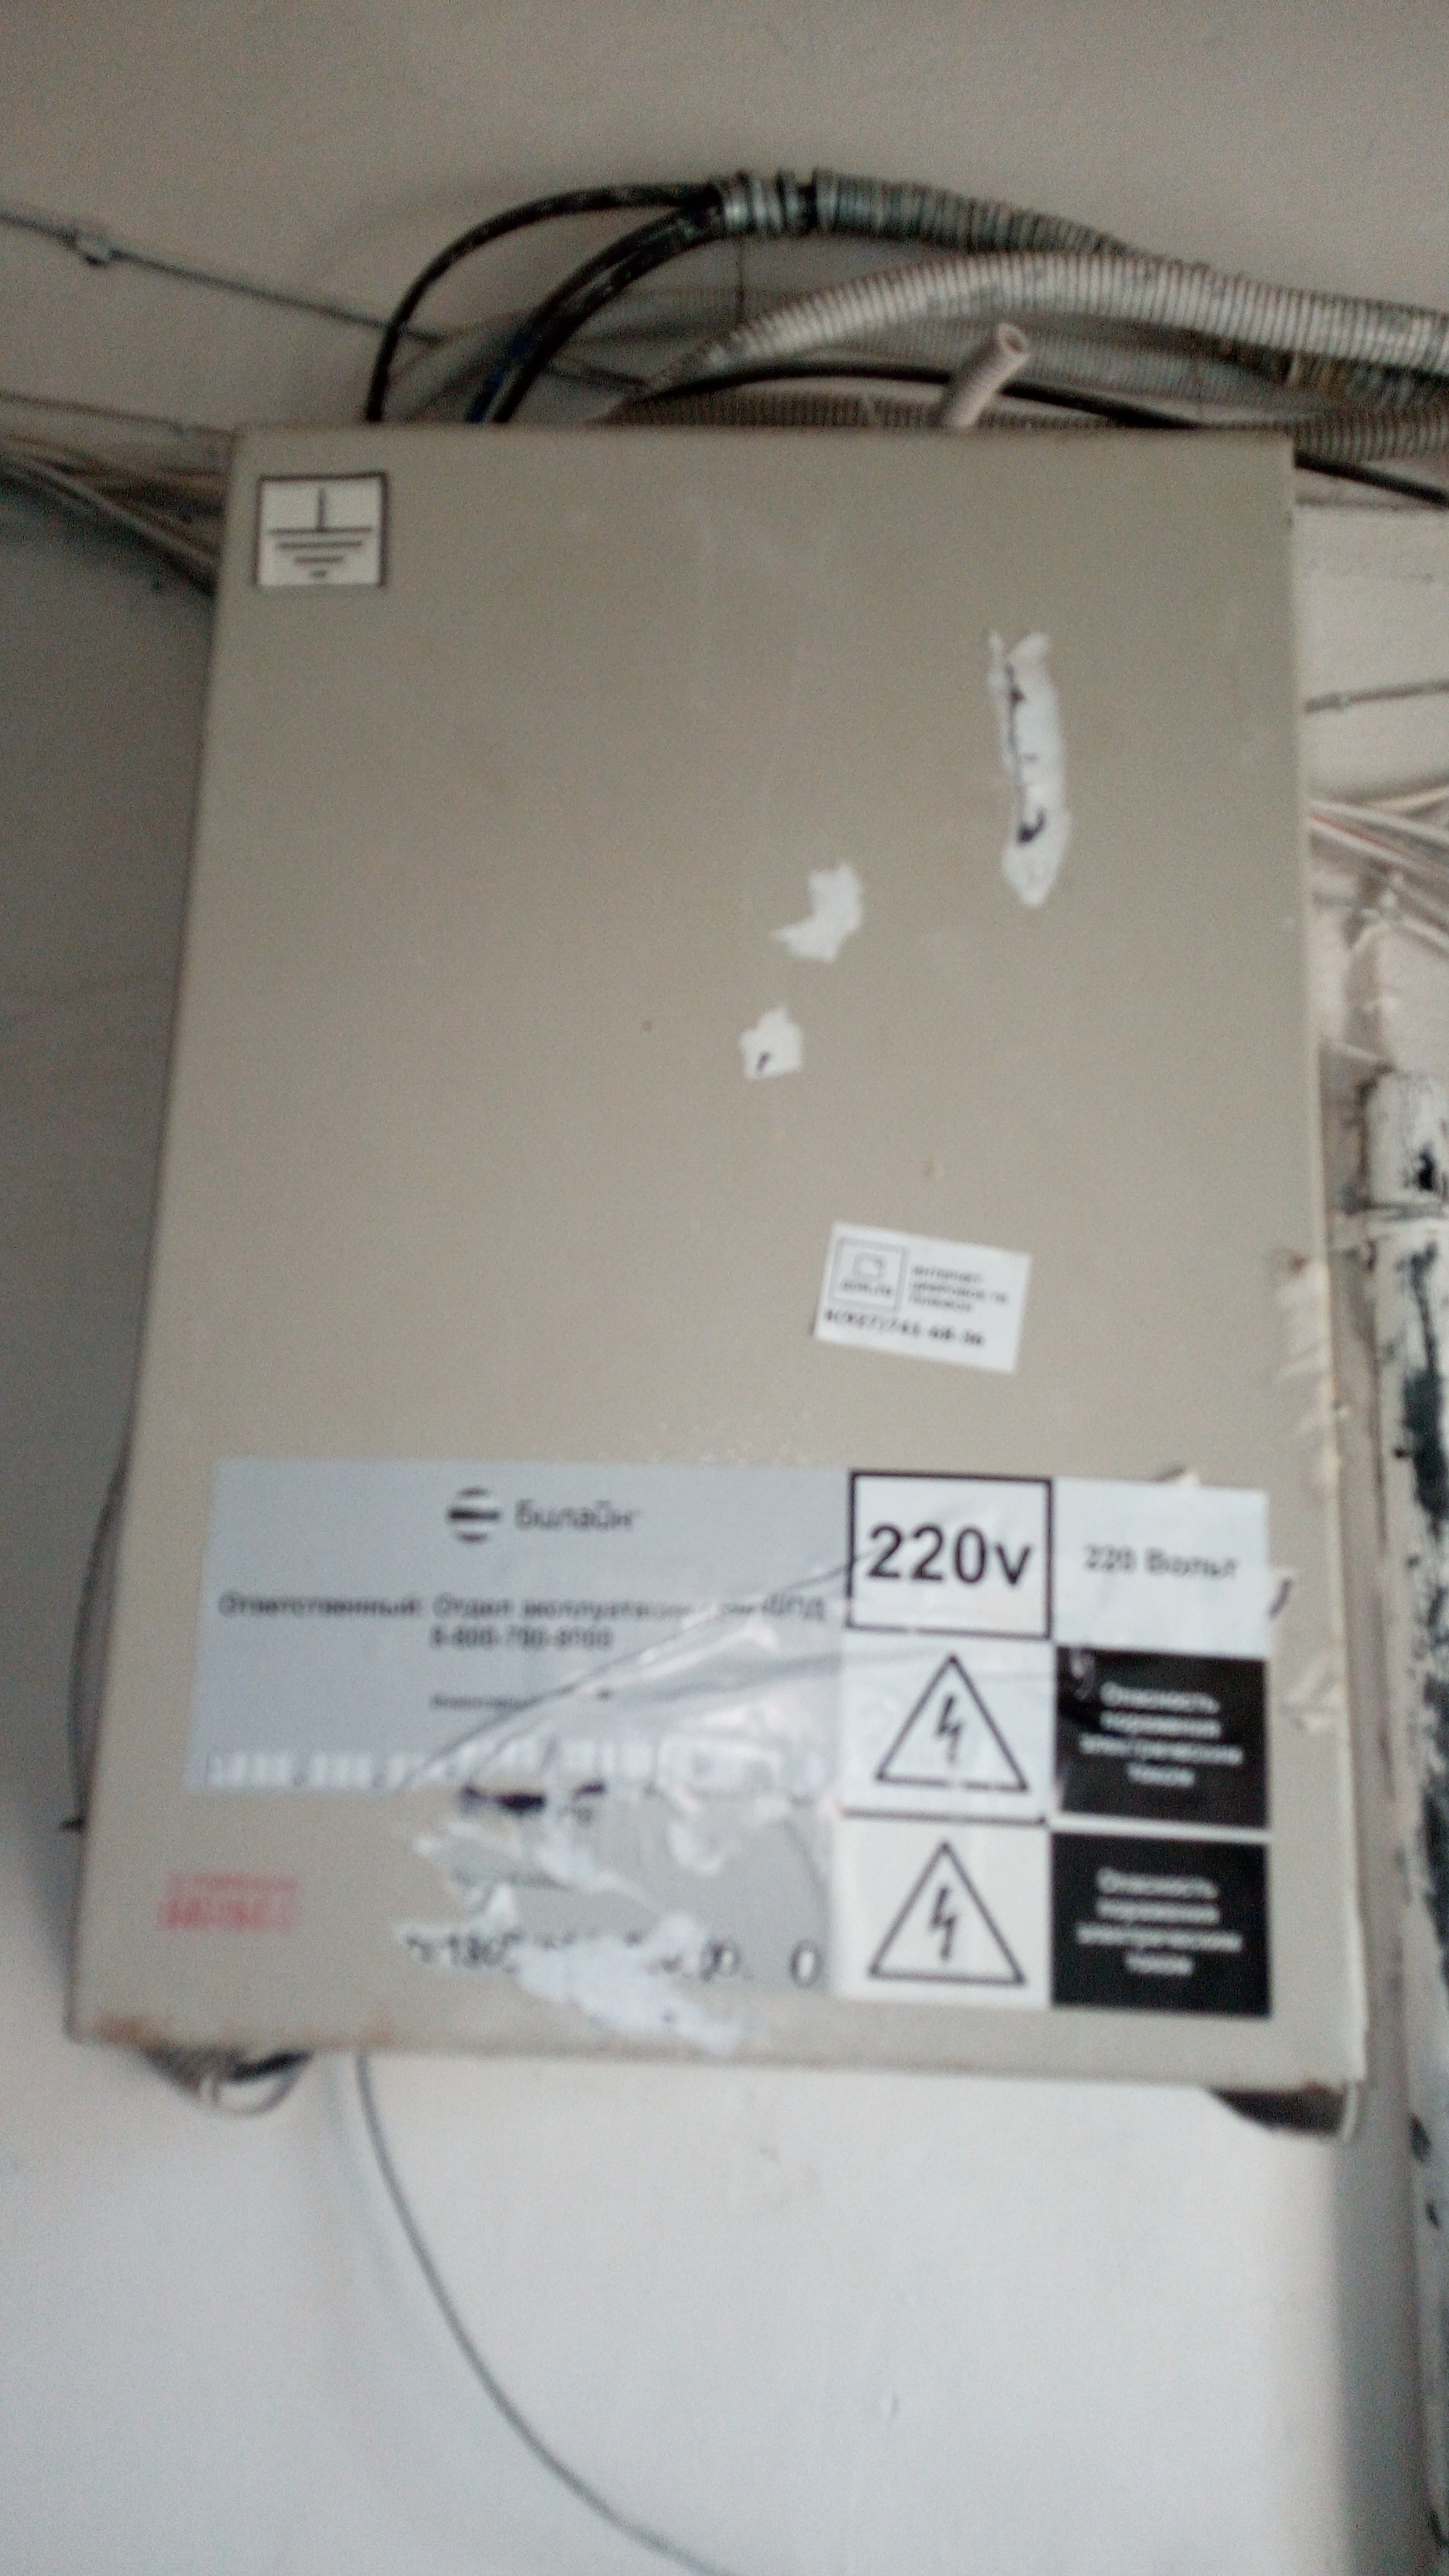sv-5: (57, 402, 1399, 2120)
